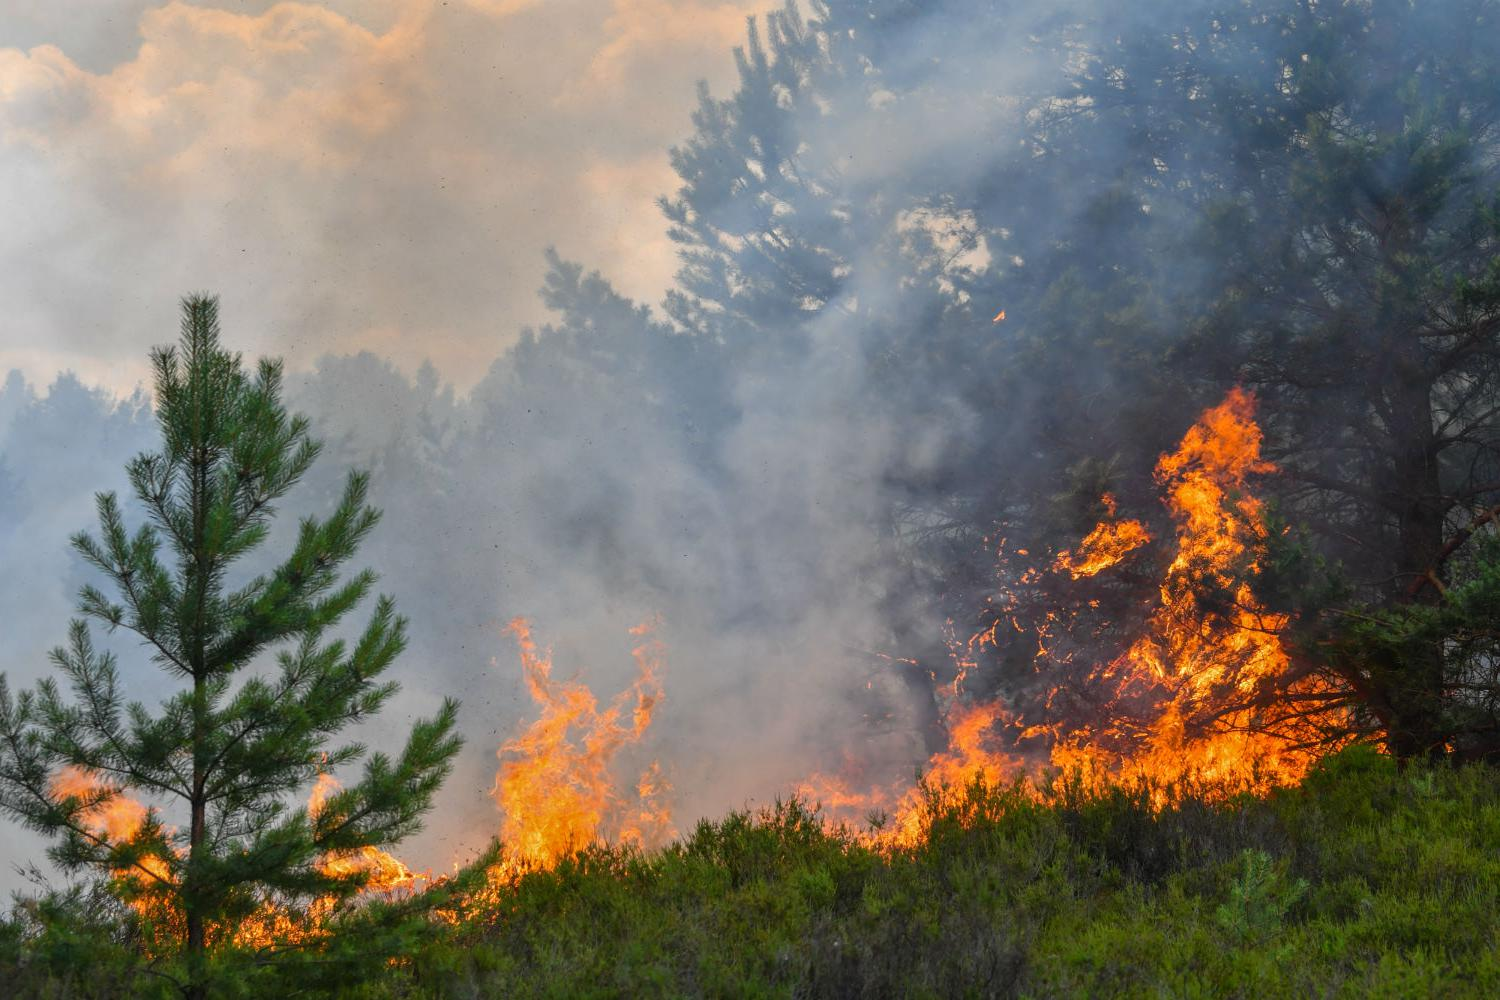fire: (783, 346, 1390, 837), (52, 749, 413, 954), (467, 608, 711, 910)
